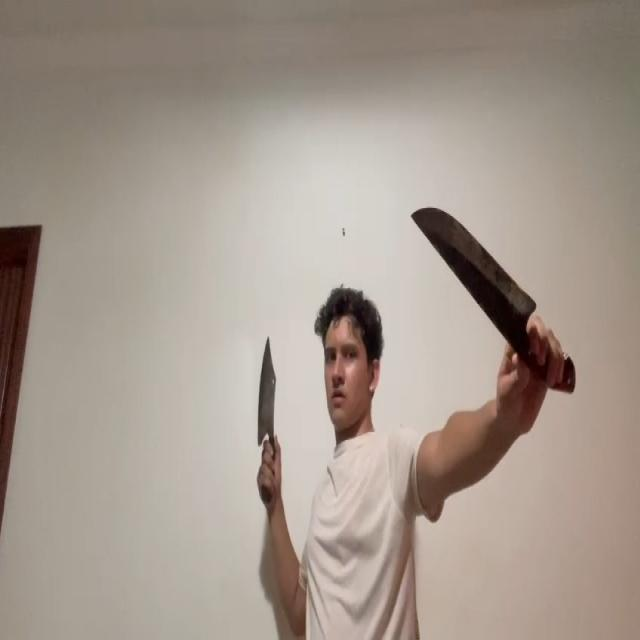knife: (411, 205, 536, 318), (258, 333, 276, 443)
